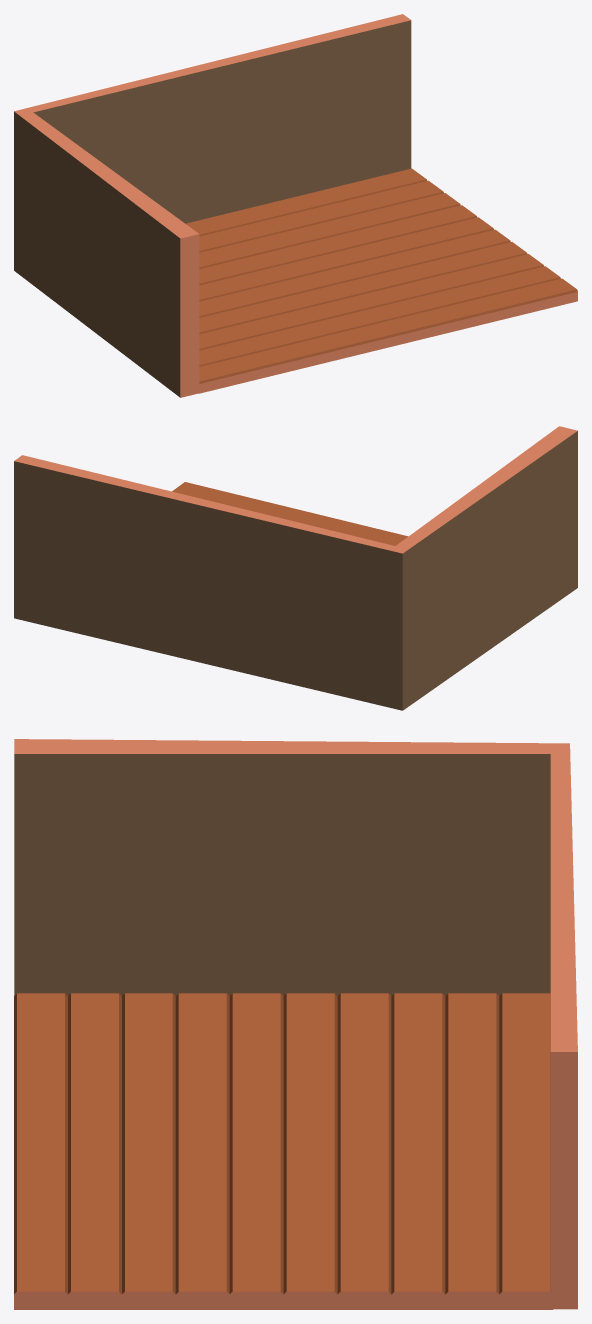
Rendered from player floor wall.fbx.
3 views of the same model, one above another, from view 1: azimuth 30°, elevation 25°; view 2: azimuth 150°, elevation 25°; view 3: azimuth 270°, elevation 25° (orthographic). The views are drawn at different scales.
Parts seen in each view (by area): view 1: player floor wall; view 2: player floor wall; view 3: player floor wall.
Boxes of the visible parts, x1,y1,x2,y2 form: player floor wall: (14,14,577,397); player floor wall: (14,426,577,710); player floor wall: (14,739,577,1309).
Size of the model in its own units: 550 by 211 by 418.
